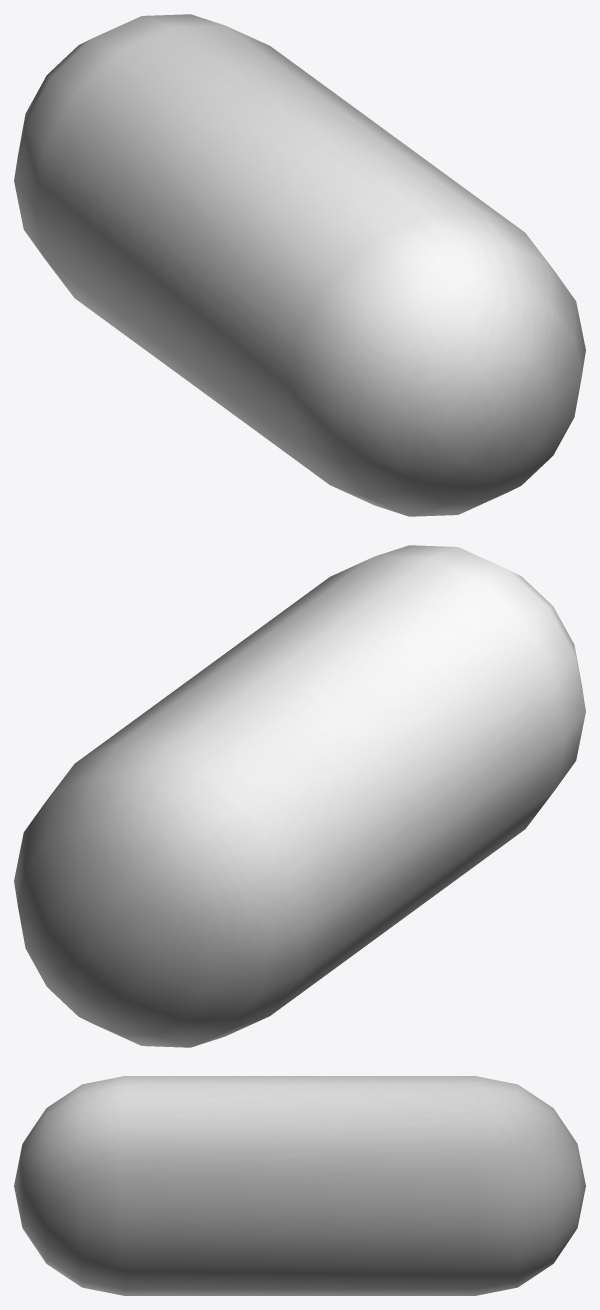
The model's file is signal.glb.
3 views of the same model, one above another, from view 1: azimuth 30°, elevation 25°; view 2: azimuth 150°, elevation 25°; view 3: azimuth 270°, elevation 25° (orthographic). The views are drawn at different scales.
Visible parts, largest first — view 1: pill; view 2: pill; view 3: pill.
Part boxes in pixels (x1,y1,x2,y2): pill: (14,14,585,516); pill: (14,545,585,1047); pill: (14,1076,585,1295).
Size of the model in its own units: 0.1 by 0.1 by 0.26.
Materials: 1 (1 with a texture image).
